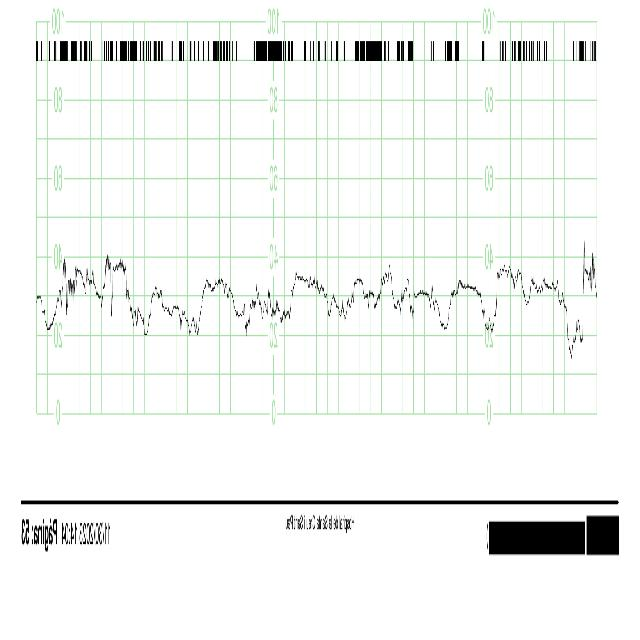contraction: (494, 255, 569, 359), (106, 245, 133, 324)
